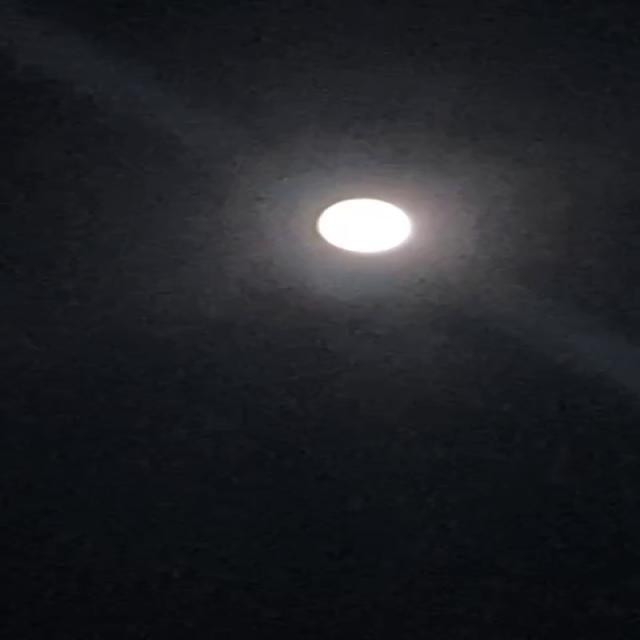moon: (310, 193, 434, 260)
